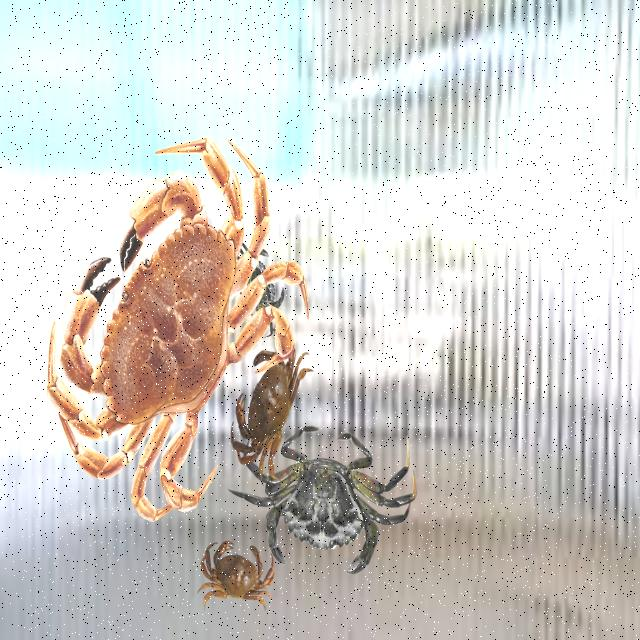European_Green_Crab: (224, 417, 420, 580), (215, 217, 299, 350)
